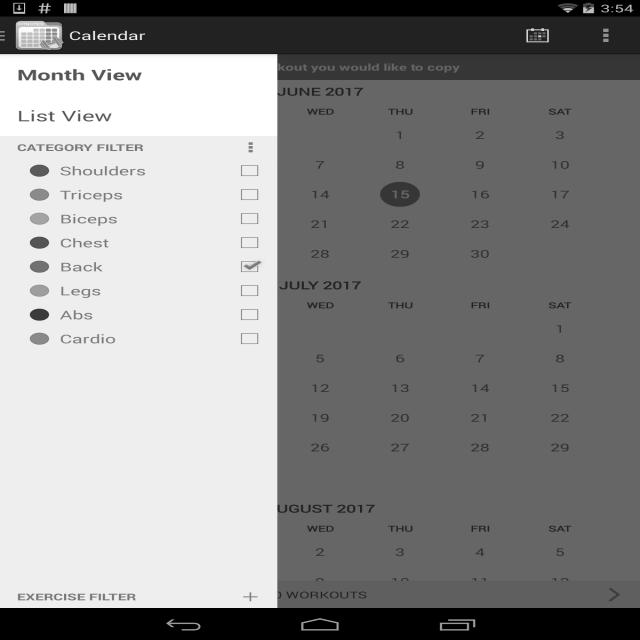CheckBox: (232, 160, 266, 181), (232, 184, 266, 205), (232, 208, 266, 229), (232, 232, 266, 253), (232, 256, 266, 277), (232, 280, 266, 301), (232, 304, 266, 325), (232, 328, 266, 349)
ImageView: (0, 581, 160, 608), (480, 581, 640, 608), (14, 19, 64, 52), (238, 140, 263, 156), (238, 588, 263, 604), (30, 164, 49, 177), (30, 212, 49, 225), (30, 188, 49, 200), (30, 236, 49, 248), (30, 260, 49, 272), (30, 284, 49, 296), (30, 308, 49, 320), (30, 332, 49, 344), (0, 30, 17, 41)
TextView: (0, 54, 640, 80), (0, 54, 277, 95), (0, 95, 277, 136), (160, 581, 480, 608), (59, 162, 232, 179), (59, 186, 232, 203), (59, 210, 232, 227), (59, 234, 232, 251), (59, 258, 232, 275), (59, 282, 232, 299), (59, 306, 232, 323), (59, 330, 232, 347), (571, 16, 640, 54), (503, 17, 572, 54), (17, 141, 144, 154), (17, 590, 137, 603), (68, 27, 146, 43)
